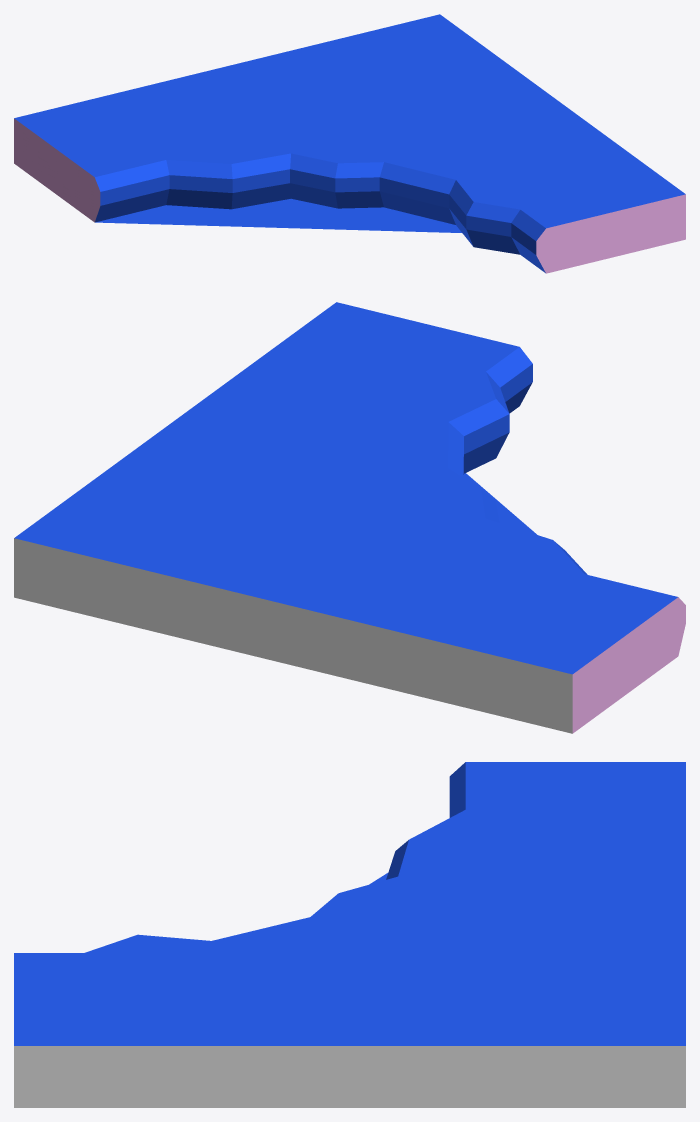
The model's file is Iceberg_Curve_Inner_4x4_1.glb.
3 renders of one model, top to bottom at view 1: azimuth 30°, elevation 25°; view 2: azimuth 150°, elevation 25°; view 3: azimuth 270°, elevation 25°, orthographic. The views are drawn at different scales.
Parts seen in each view (by area): view 1: Iceberg_Curve_Inner_4x4_1; view 2: Iceberg_Curve_Inner_4x4_1; view 3: Iceberg_Curve_Inner_4x4_1.
Boxes of the visible parts, <box> form: Iceberg_Curve_Inner_4x4_1: <box>14,14,685,273</box>; Iceberg_Curve_Inner_4x4_1: <box>14,302,685,733</box>; Iceberg_Curve_Inner_4x4_1: <box>14,762,685,1107</box>.
Size of the model in its own units: 400 by 40.63 by 400.
